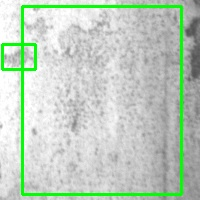patches: (2, 44, 35, 69)
pitted_surface: (22, 6, 181, 194)
